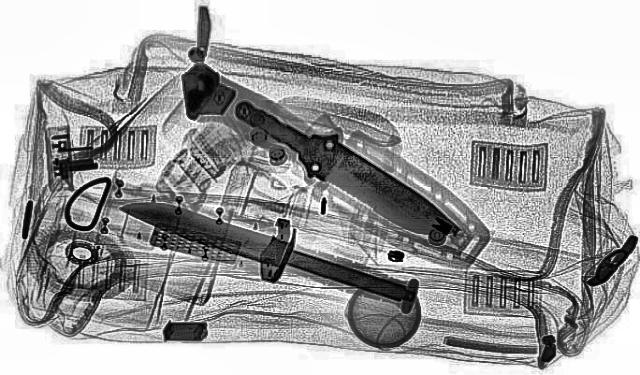Knife: (206, 90, 480, 246), (108, 191, 430, 308)
